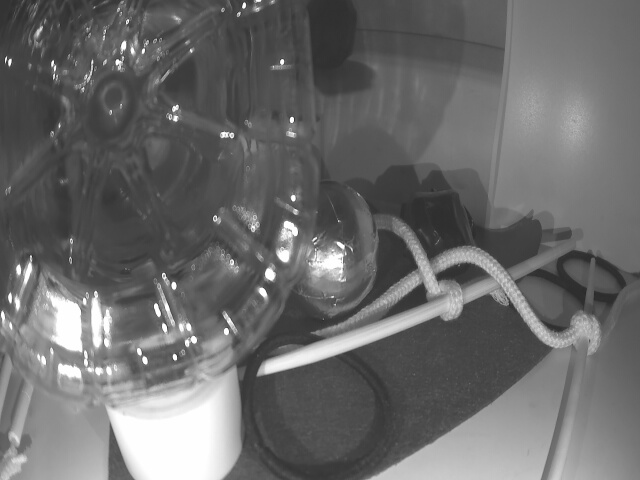Dead: (398, 190, 476, 279)
Live: (281, 180, 379, 319)
